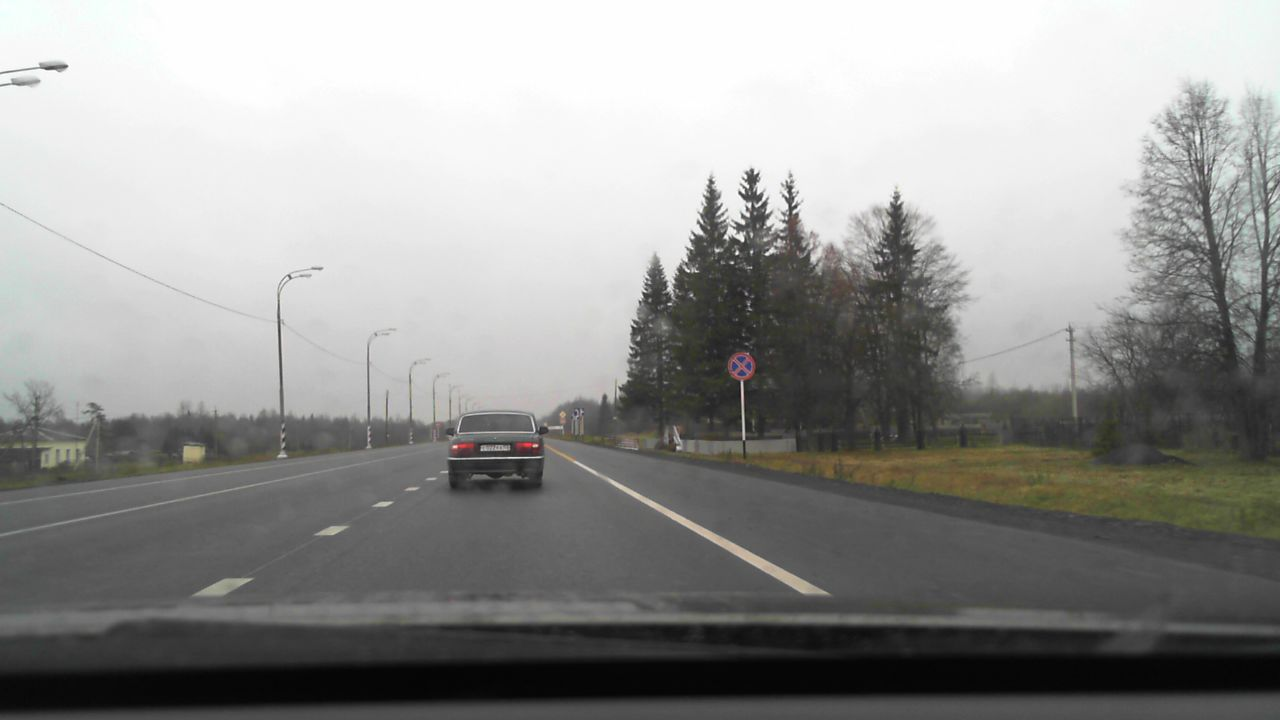No Parking: (727, 352, 756, 380)
